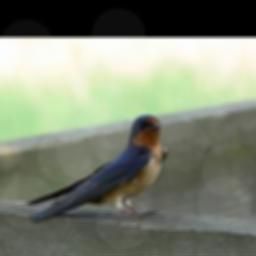Swallow: (1, 112, 170, 225)
